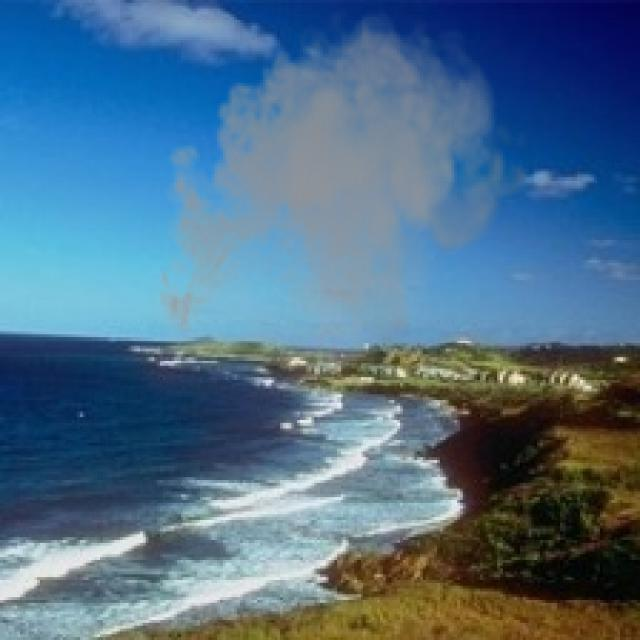smoke: (146, 0, 531, 400)
